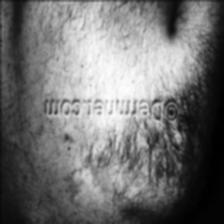Potentially Malignant Skin Tumors: (60, 126, 74, 158)
